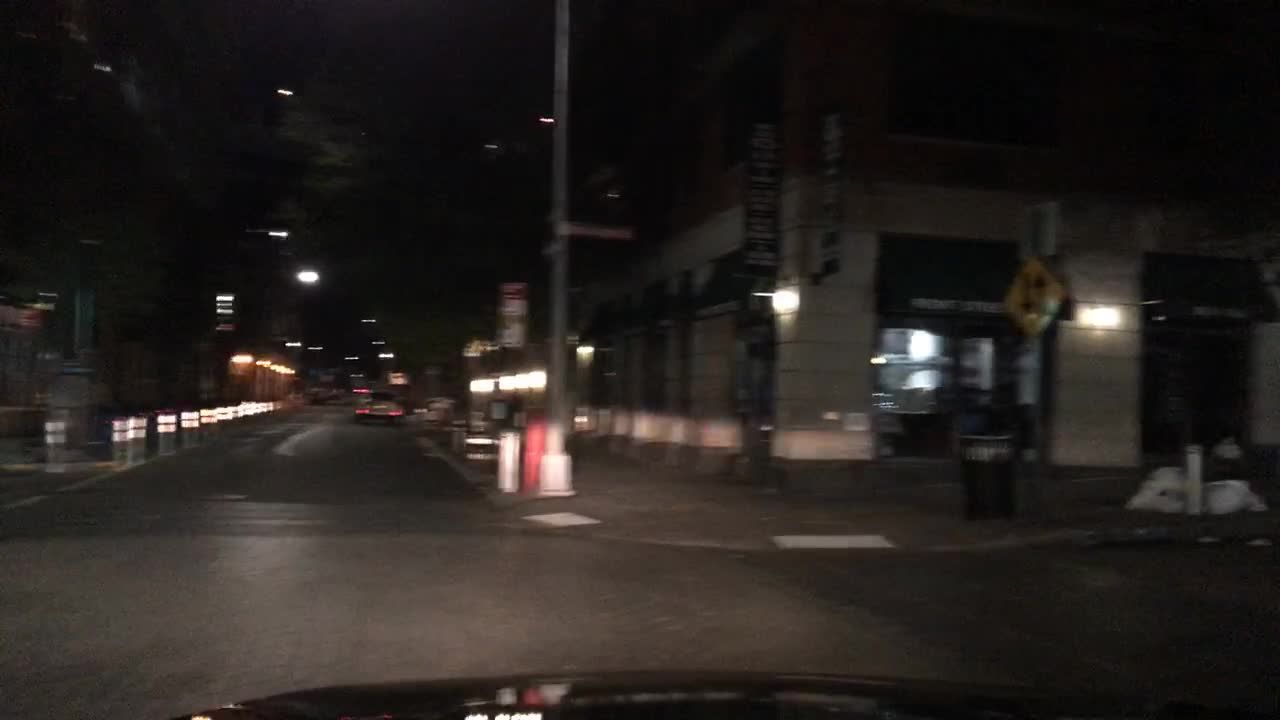car: (351, 386, 405, 426), (424, 395, 454, 416), (302, 381, 328, 404), (325, 383, 346, 400)
person: (488, 378, 504, 413)
traffic sign: (1001, 257, 1063, 339), (1016, 200, 1058, 261), (565, 221, 637, 242), (499, 278, 527, 318), (494, 318, 525, 348)
